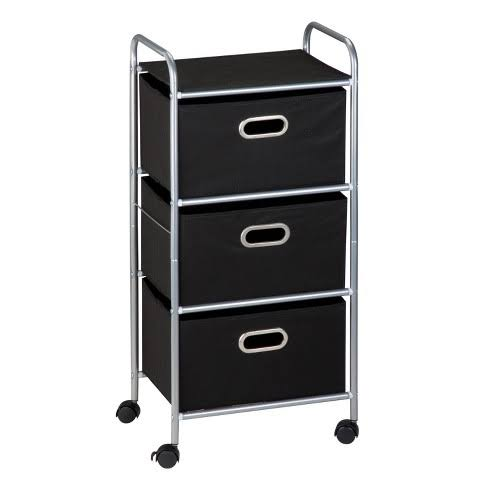Carts: (115, 20, 363, 468)
